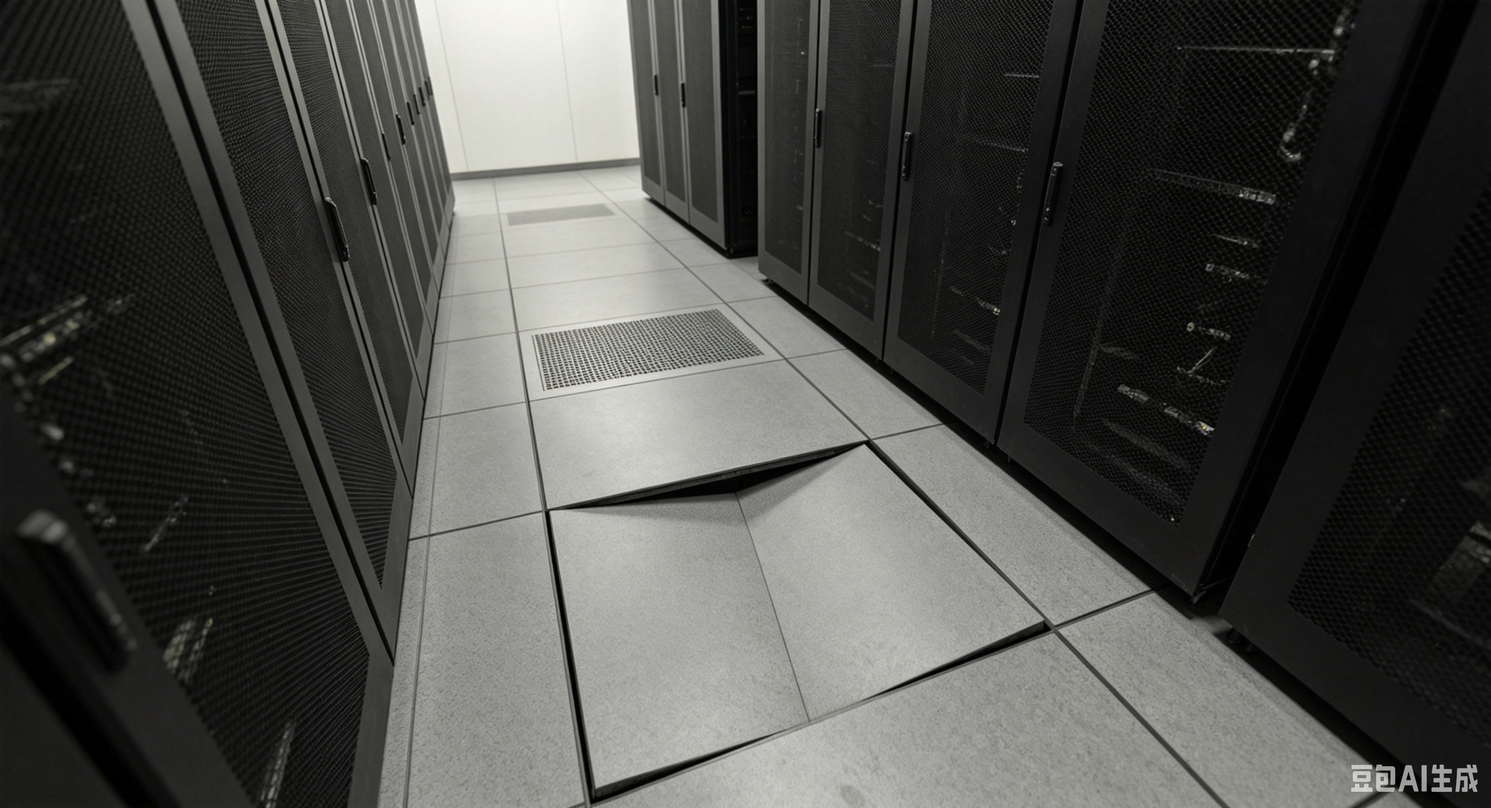floor_defect: (539, 438, 1057, 808)
